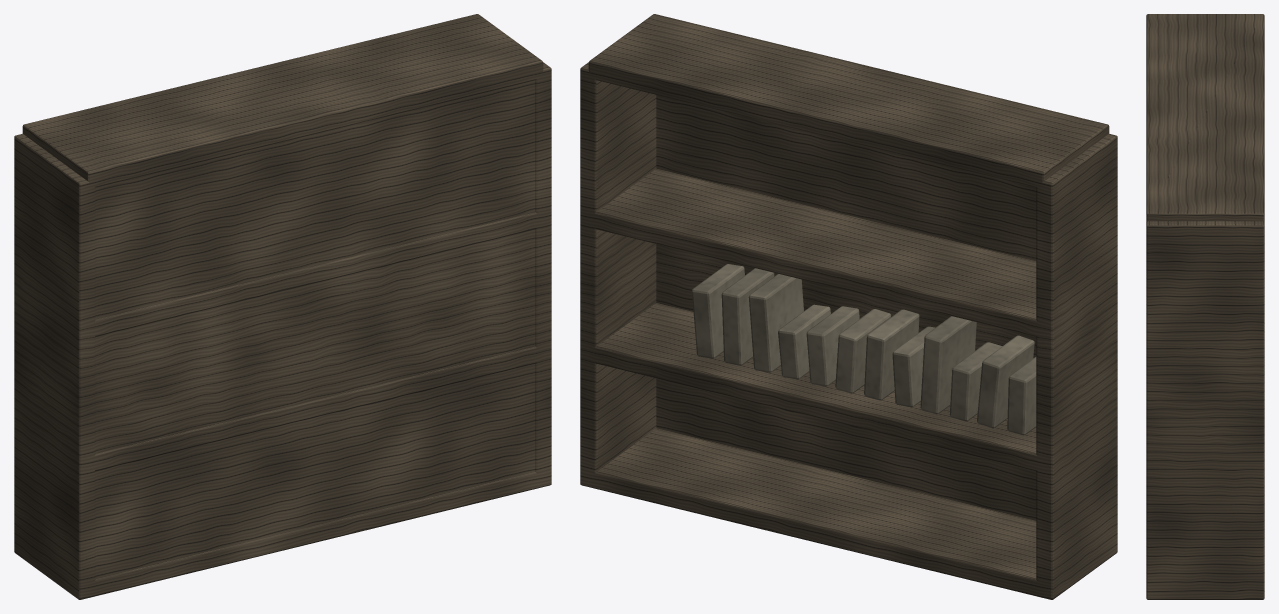
The model's file is WallCabinet.fbx.
3 views of the same model, side by side, from view 1: azimuth 30°, elevation 25°; view 2: azimuth 150°, elevation 25°; view 3: azimuth 270°, elevation 25° (orthographic). The views are drawn at different scales.
Parts seen in each view (by area): view 1: WallCabinet; view 2: WallCabinet; view 3: WallCabinet.
Boxes of the visible parts, bbox=[...] form: WallCabinet: bbox=[14, 14, 551, 599]; WallCabinet: bbox=[580, 14, 1117, 599]; WallCabinet: bbox=[1146, 14, 1264, 599].
Bounding box in the file's own units: 166 × 143 × 40.
